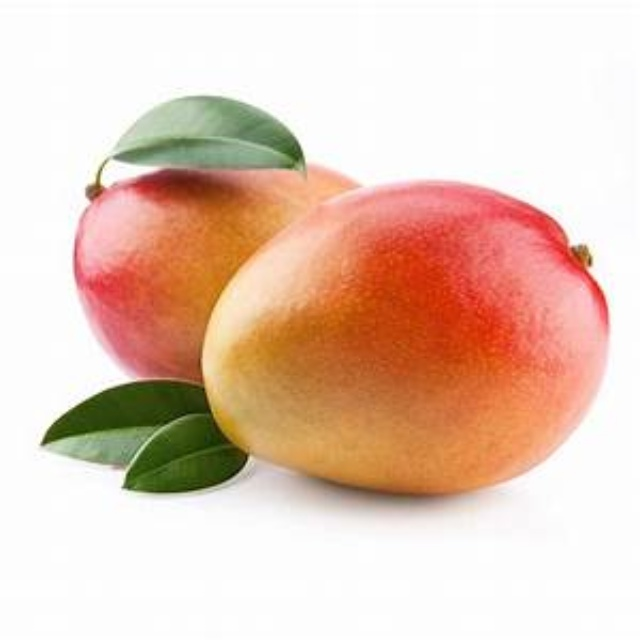mango: (205, 181, 609, 499), (72, 163, 370, 380)
